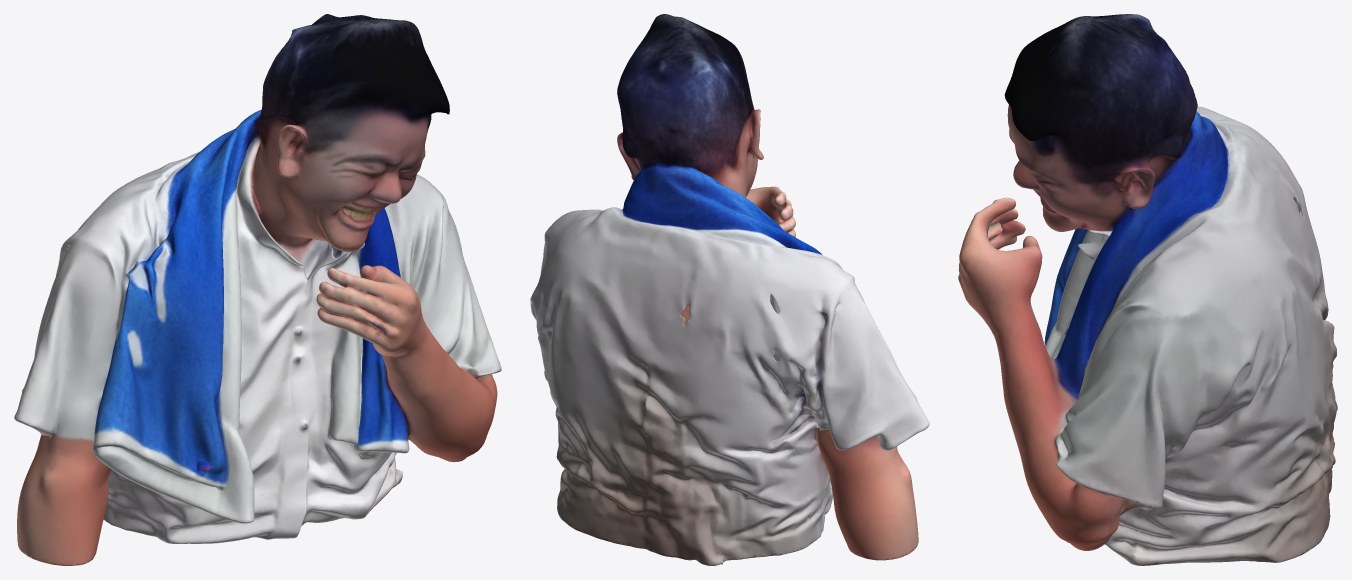
3 renders of one model, left to right at view 1: azimuth 30°, elevation 25°; view 2: azimuth 150°, elevation 25°; view 3: azimuth 270°, elevation 25°, orthographic. The views are drawn at different scales.
Parts seen in each view (by area): view 1: world; view 2: world; view 3: world.
Boxes of the visible parts, x1,y1,x2,y2 form: world: (14,14,501,565); world: (530,14,929,565); world: (958,14,1337,565).
Bounding box in the file's own units: 0.9473 × 1 × 0.6684.
1 material, 1 textured.
